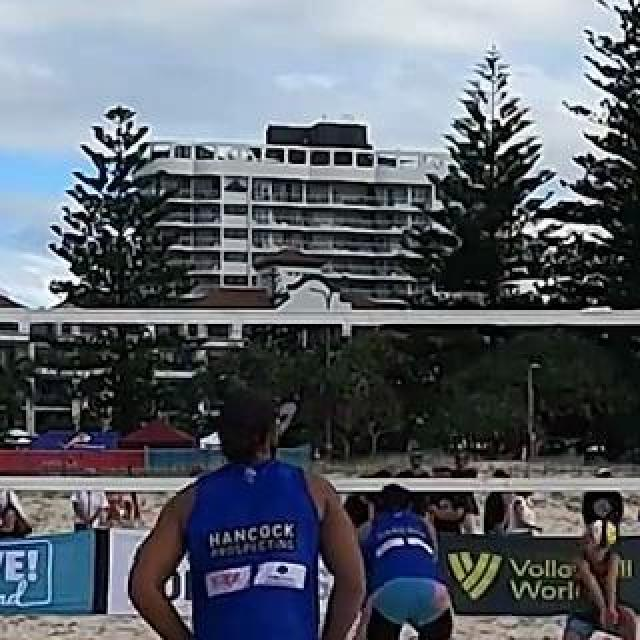volleyball: (589, 519, 617, 547)
